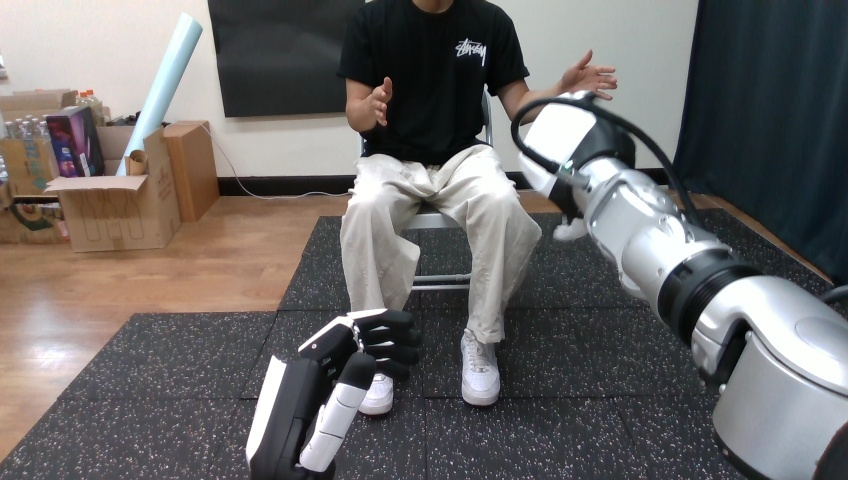left robot hand: (512, 93, 847, 478), (246, 308, 419, 479), (556, 50, 616, 100)
